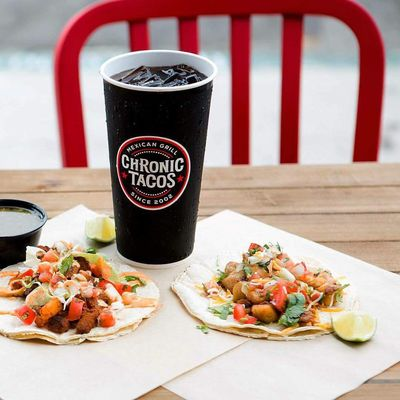pizza: (100, 49, 219, 269)
sushi: (0, 198, 48, 270)
